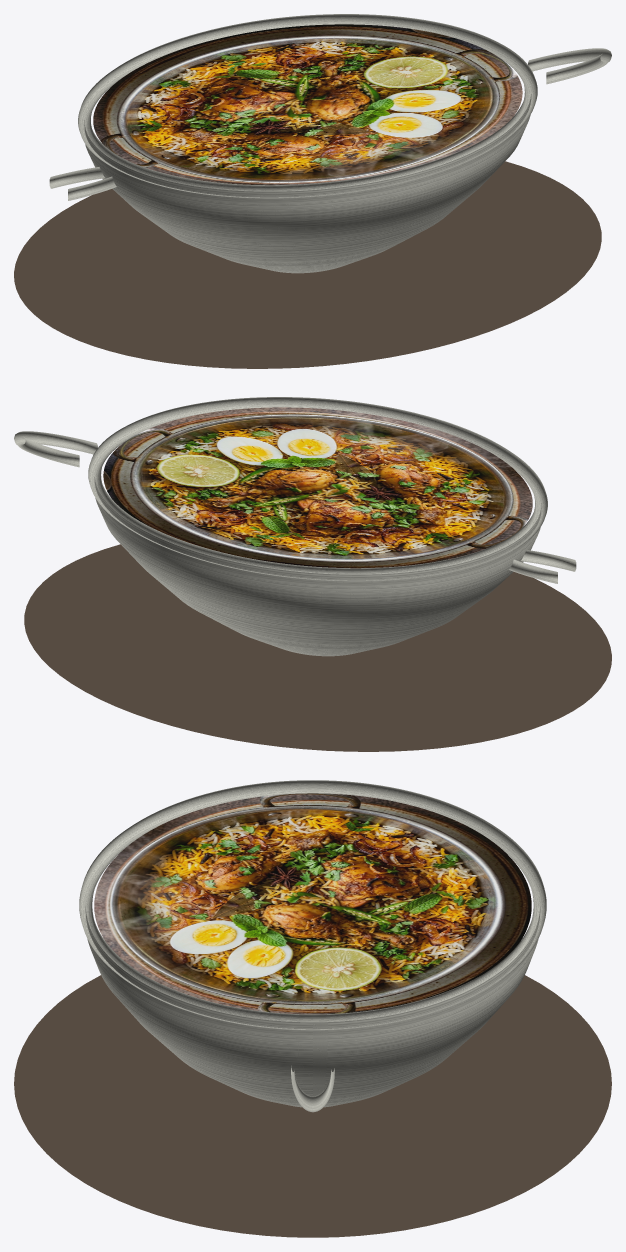
The model's file is biryani_plate_3d.glb.
3 views of the same model, one above another, from view 1: azimuth 30°, elevation 25°; view 2: azimuth 150°, elevation 25°; view 3: azimuth 270°, elevation 25° (orthographic). The views are drawn at different scales.
Parts seen in each view (by area): view 1: BiryaniKarahi; view 2: BiryaniKarahi; view 3: BiryaniKarahi.
Boxes of the visible parts, x1,y1,x2,y2 form: BiryaniKarahi: (14, 14, 611, 368); BiryaniKarahi: (14, 397, 611, 751); BiryaniKarahi: (14, 780, 611, 1237).
Bounding box in the file's own units: 2.14 × 0.5609 × 1.64.
Materials: 3 (2 with a texture image).
